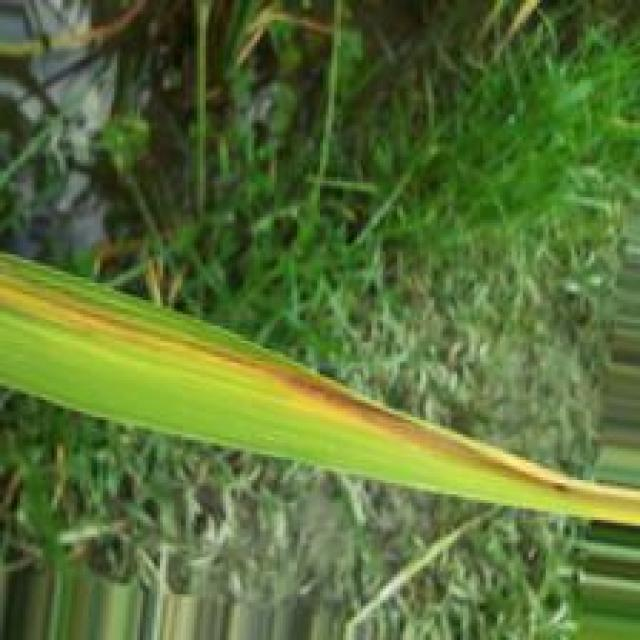Leaf_Scald: (283, 363, 637, 510)
